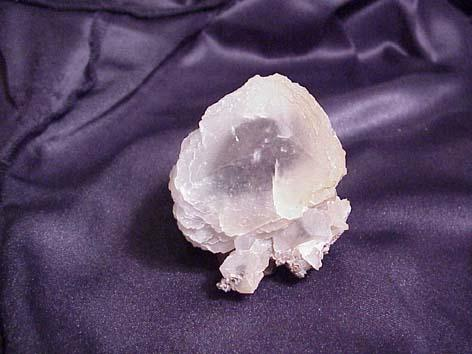calcite: (170, 74, 351, 293)
